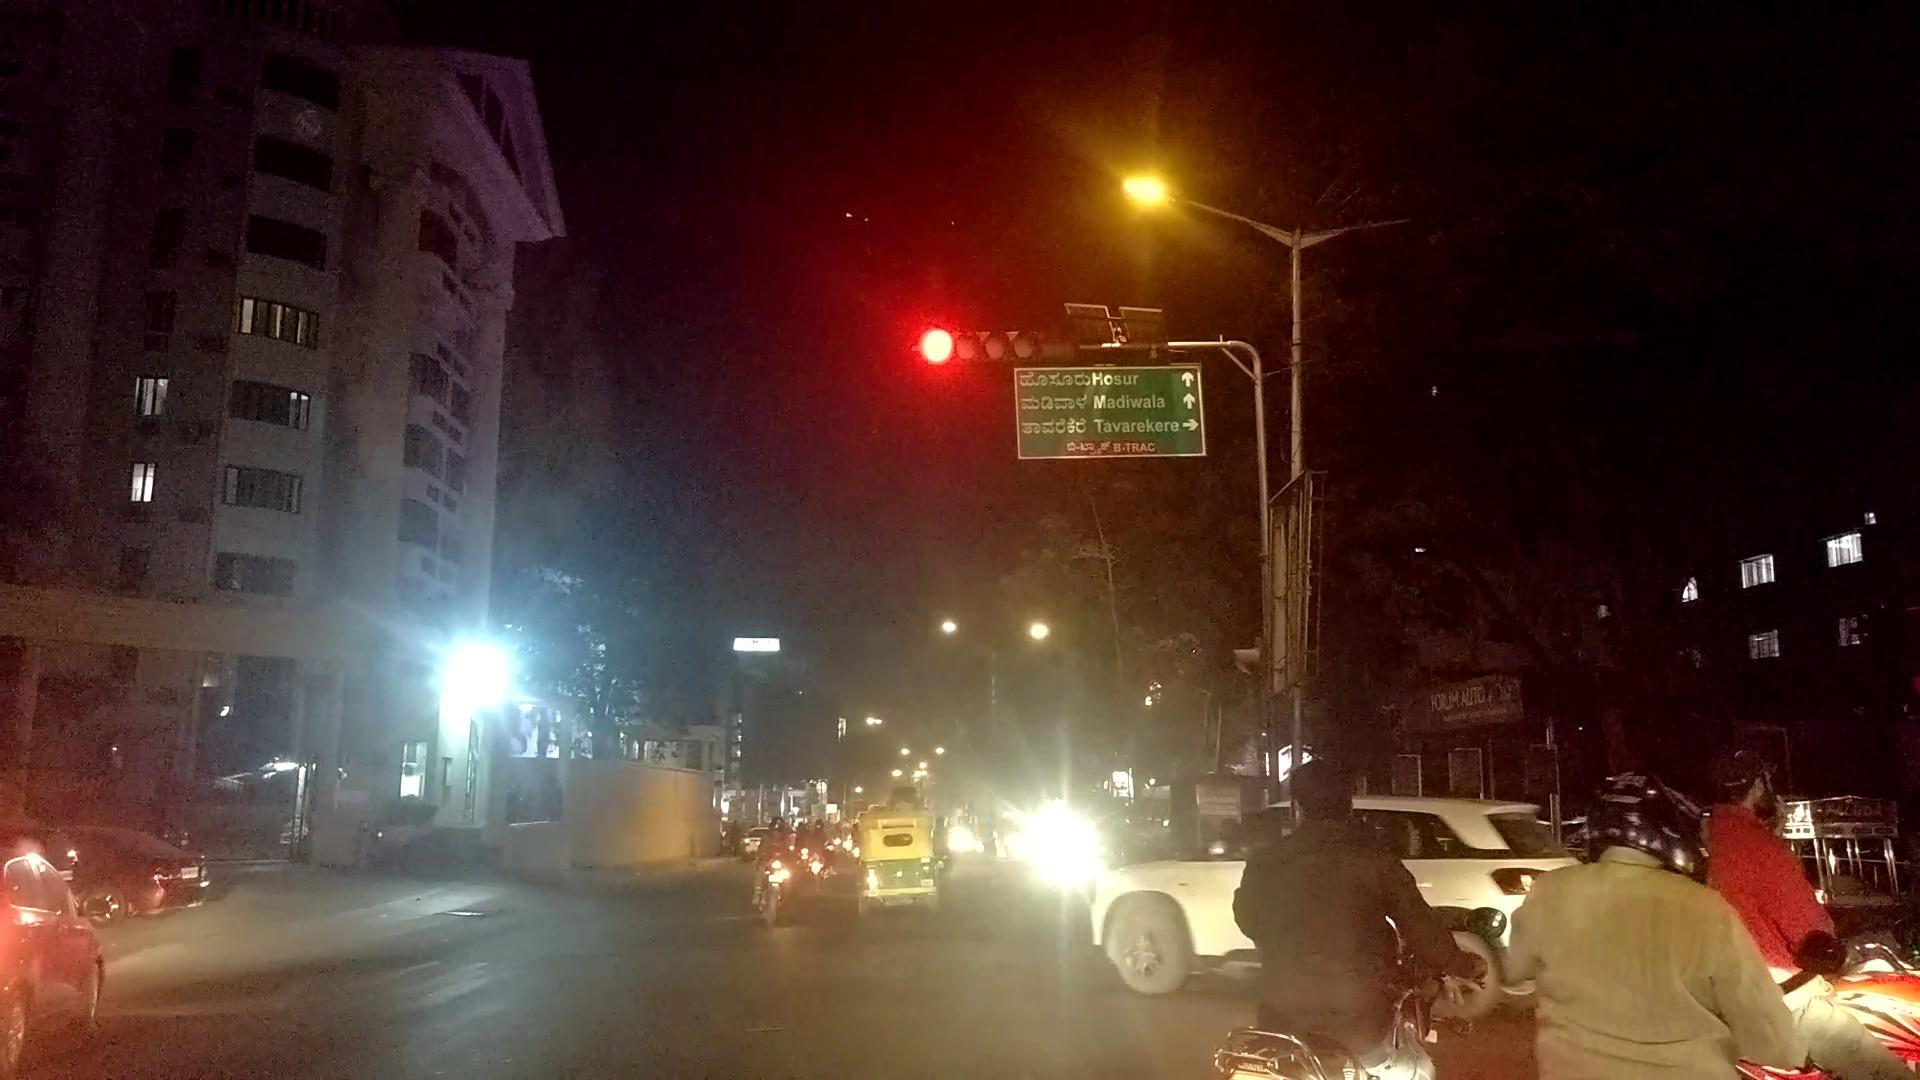on: (990, 51, 1319, 331)
